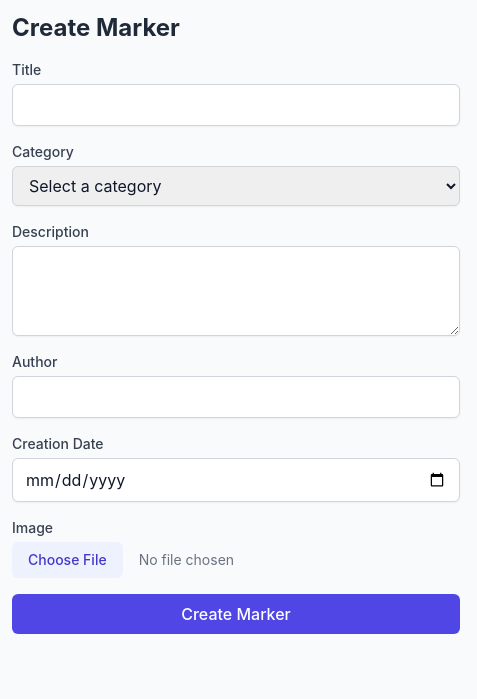
MarkerForm › shows validation error when title is empty on submit
Click the button "Create Marker" at (236, 614), box [12,594,460,634]
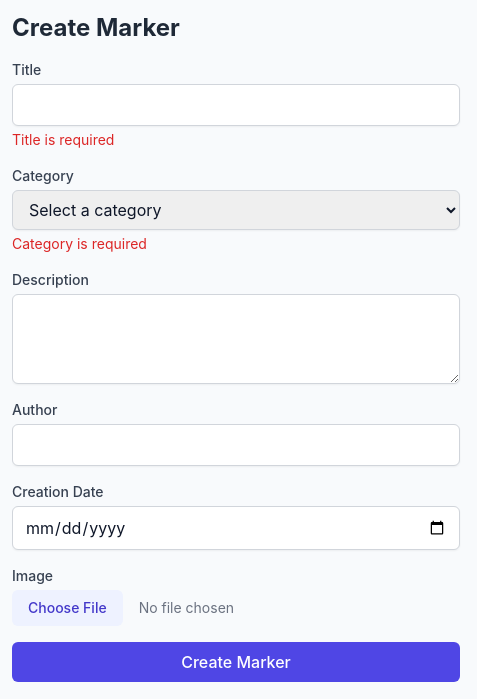
Expected: the text "Title is required" is shown, [12,131,114,148]
